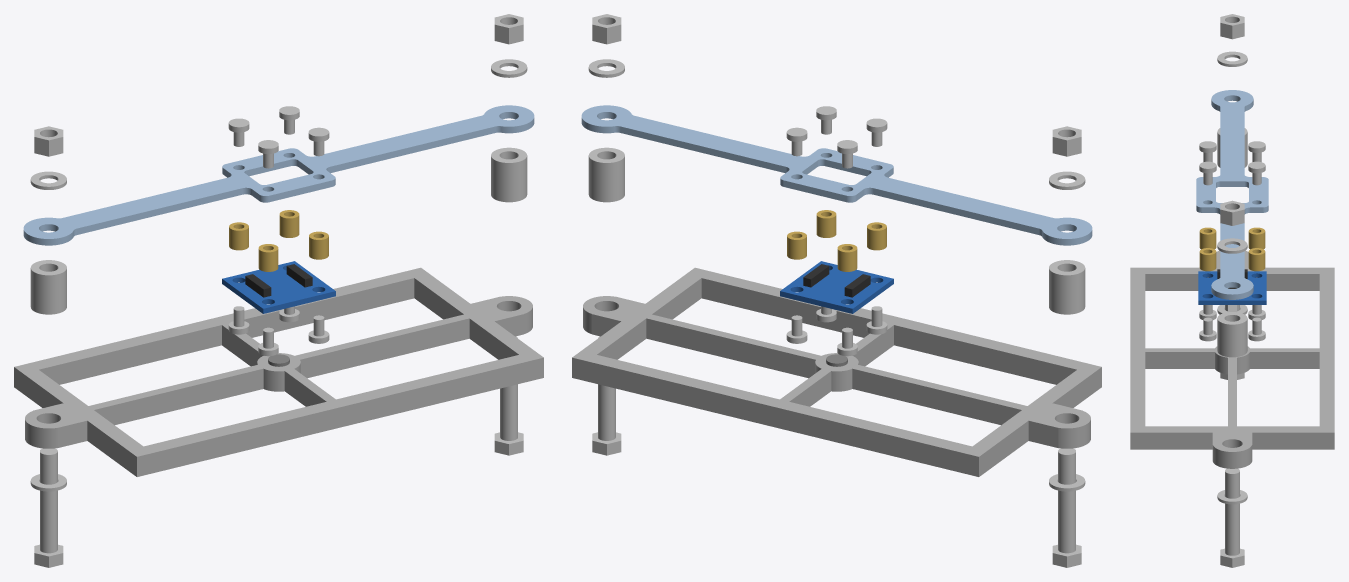
File: sensorbruecke-as5600-baugruppe-explosion.glb
3 views of the same model, side by side, from view 1: azimuth 30°, elevation 25°; view 2: azimuth 150°, elevation 25°; view 3: azimuth 270°, elevation 25° (orthographic). The views are drawn at different scales.
Visible parts, largest first — view 1: 01_Luftbox_Rueckseite_1, 05_Sensorbruecke_1, 03_AS5600_Platine_1, 08_ISO4017_M5x30_1, 06_Distanzhuelse_12_2, 06_Distanzhuelse_12_1, 08_ISO4017_M5x30_2, 10_Mutter_ISO7042_M5_1, 10_Mutter_ISO7042_M5_2; view 2: 01_Luftbox_Rueckseite_1, 05_Sensorbruecke_1, 03_AS5600_Platine_1, 08_ISO4017_M5x30_1, 06_Distanzhuelse_12_2, 06_Distanzhuelse_12_1, 08_ISO4017_M5x30_2, 10_Mutter_ISO7042_M5_1, 10_Mutter_ISO7042_M5_2; view 3: 01_Luftbox_Rueckseite_1, 05_Sensorbruecke_1, 08_ISO4017_M5x30_2, 03_AS5600_Platine_1, 06_Distanzhuelse_12_2, 10_Mutter_ISO7042_M5_2, 10_Mutter_ISO7042_M5_1, 04_Abstandshalter_M3x6_3, 04_Abstandshalter_M3x6_4, 09_Scheibe_ISO7089_5_3, 09_Scheibe_ISO7089_5_1, 04_Abstandshalter_M3x6_1 (+9 smaller).
Part boxes in pixels (left/top/right/bottom): 01_Luftbox_Rueckseite_1: left=14, top=267, right=543, bottom=476; 05_Sensorbruecke_1: left=23, top=105, right=534, bottom=245; 03_AS5600_Platine_1: left=222, top=261, right=335, bottom=313; 08_ISO4017_M5x30_1: left=34, top=448, right=63, bottom=567; 06_Distanzhuelse_12_2: left=491, top=147, right=527, bottom=202; 06_Distanzhuelse_12_1: left=30, top=260, right=66, bottom=314; 08_ISO4017_M5x30_2: left=494, top=336, right=523, bottom=455; 10_Mutter_ISO7042_M5_1: left=34, top=126, right=63, bottom=156; 10_Mutter_ISO7042_M5_2: left=494, top=14, right=523, bottom=44; 01_Luftbox_Rueckseite_1: left=572, top=267, right=1101, bottom=476; 05_Sensorbruecke_1: left=581, top=105, right=1092, bottom=245; 03_AS5600_Platine_1: left=780, top=261, right=893, bottom=313; 08_ISO4017_M5x30_1: left=1052, top=448, right=1081, bottom=567; 06_Distanzhuelse_12_2: left=588, top=147, right=624, bottom=202; 06_Distanzhuelse_12_1: left=1049, top=260, right=1085, bottom=314; 08_ISO4017_M5x30_2: left=592, top=336, right=621, bottom=455; 10_Mutter_ISO7042_M5_1: left=1052, top=126, right=1081, bottom=156; 10_Mutter_ISO7042_M5_2: left=592, top=14, right=621, bottom=44; 01_Luftbox_Rueckseite_1: left=1130, top=250, right=1334, bottom=468; 05_Sensorbruecke_1: left=1196, top=90, right=1268, bottom=299; 08_ISO4017_M5x30_2: left=1220, top=468, right=1244, bottom=567; 03_AS5600_Platine_1: left=1198, top=271, right=1266, bottom=304; 06_Distanzhuelse_12_2: left=1217, top=312, right=1247, bottom=357; 10_Mutter_ISO7042_M5_2: left=1220, top=200, right=1244, bottom=225; 10_Mutter_ISO7042_M5_1: left=1220, top=14, right=1244, bottom=39; 04_Abstandshalter_M3x6_3: left=1199, top=248, right=1216, bottom=271; 04_Abstandshalter_M3x6_4: left=1248, top=248, right=1265, bottom=271; 09_Scheibe_ISO7089_5_3: left=1217, top=238, right=1247, bottom=253; 09_Scheibe_ISO7089_5_1: left=1217, top=51, right=1247, bottom=66; 04_Abstandshalter_M3x6_1: left=1199, top=227, right=1216, bottom=249.
Bounding box in the file's own units: 161 × 131 × 68.
